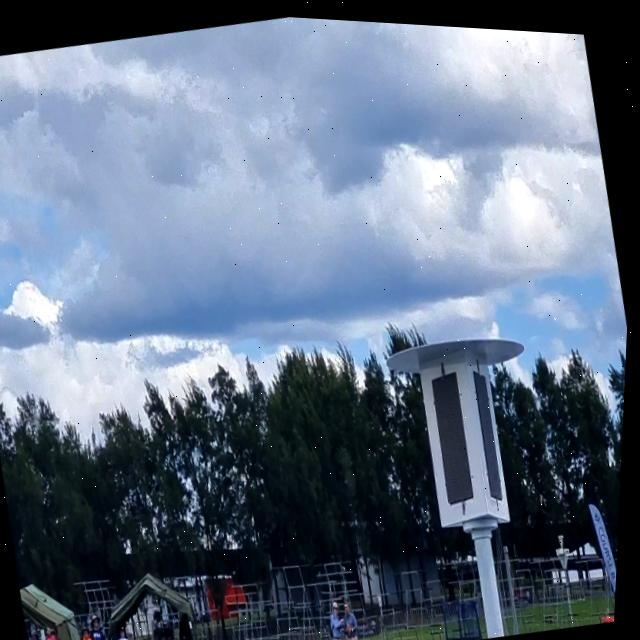led: (421, 359, 491, 509), (467, 353, 517, 506)
